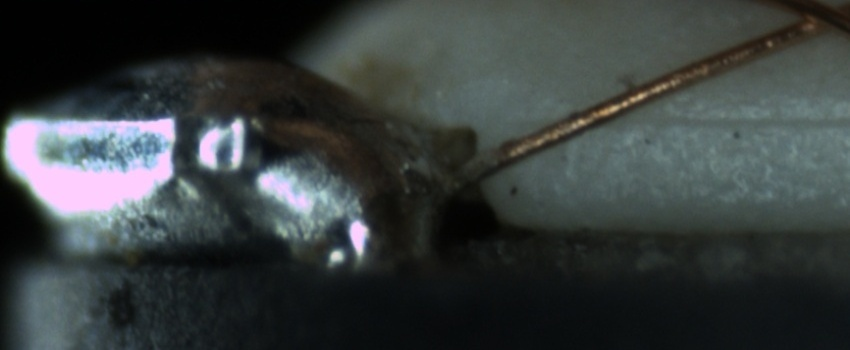CL: (769, 0, 848, 44)
DL: (568, 86, 849, 152)
